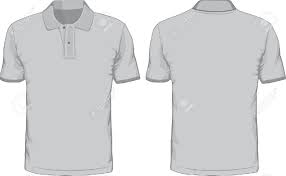S_polo shirt: (4, 4, 146, 171)
